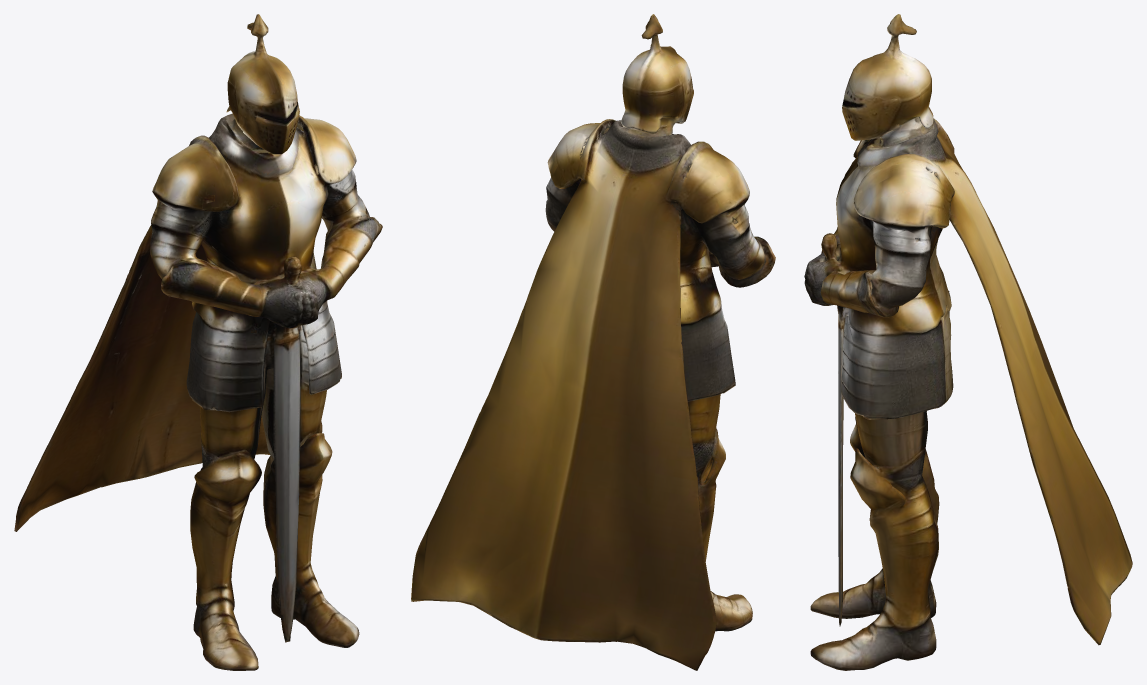
The model's file is knight.glb.
The picture shows the model from 3 angles, left to right: view 1: azimuth 30°, elevation 25°; view 2: azimuth 150°, elevation 25°; view 3: azimuth 270°, elevation 25°; orthographic projection.
Parts seen in each view (by area): view 1: Mesh_0; view 2: Mesh_0; view 3: Mesh_0.
Part boxes in pixels (left/top/right/bottom): Mesh_0: left=14, top=14, right=382, bottom=670; Mesh_0: left=411, top=14, right=775, bottom=670; Mesh_0: left=804, top=14, right=1132, bottom=670.
Size of the model in its own units: 0.1302 by 0.2539 by 0.1211.
1 material, 1 textured.
